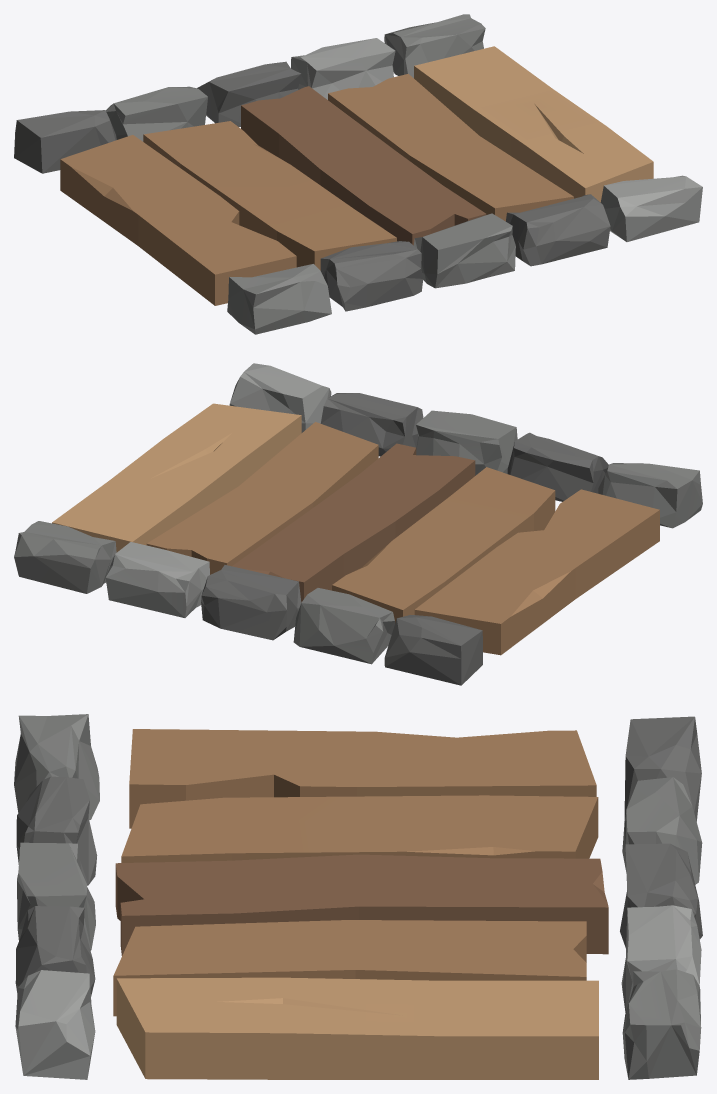
Rendered from road_block.glb.
3 views of the same model, one above another, from view 1: azimuth 30°, elevation 25°; view 2: azimuth 150°, elevation 25°; view 3: azimuth 270°, elevation 25° (orthographic). The views are drawn at different scales.
Parts seen in each view (by area): view 1: GroundTileModular_002; view 2: GroundTileModular_002; view 3: GroundTileModular_002.
Boxes of the visible parts, x1,y1,x2,y2 form: GroundTileModular_002: (14,14,702,334); GroundTileModular_002: (14,363,702,685); GroundTileModular_002: (14,714,702,1079).
Bounding box in the file's own units: 0.9704 × 0.0877 × 0.9069.
1 material, 1 textured.
